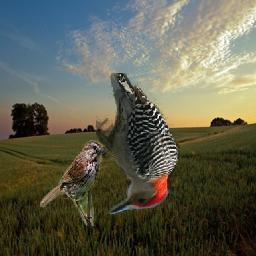Sparrow: (41, 140, 108, 226)
Woodpecker: (96, 74, 180, 215)
